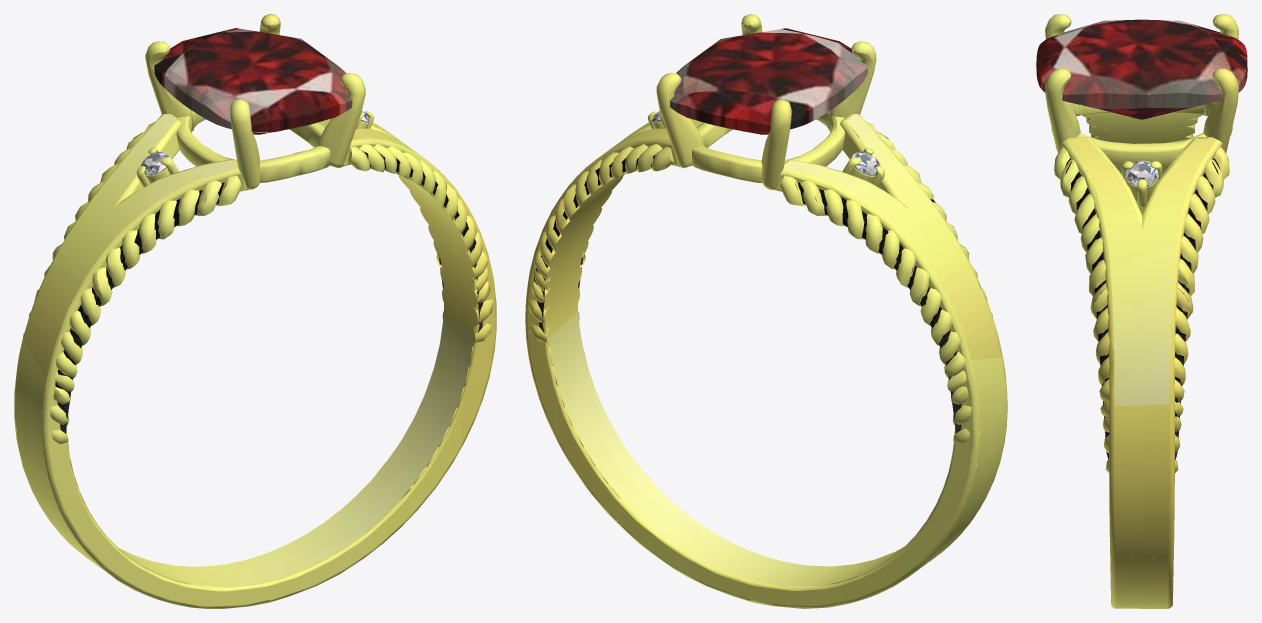
The model's file is ring15.glb.
The picture shows the model from 3 angles, left to right: view 1: azimuth 30°, elevation 25°; view 2: azimuth 150°, elevation 25°; view 3: azimuth 270°, elevation 25°; orthographic projection.
Parts seen in each view (by area): view 1: body, core, black; view 2: body, core, black; view 3: body, core, black, diamond.
Part boxes in pixels (x1,y1,x2,y2): body: [14, 14, 496, 608]; core: [154, 28, 352, 134]; black: [49, 151, 482, 433]; body: [525, 14, 1007, 608]; core: [670, 28, 867, 134]; black: [534, 130, 970, 433]; body: [1045, 14, 1238, 608]; core: [1036, 19, 1247, 119]; black: [1065, 158, 1220, 459]; diamond: [1125, 160, 1158, 186].
Size of the model in its own units: 20.1 by 22.65 by 7.99.
4 materials, 4 textured.
